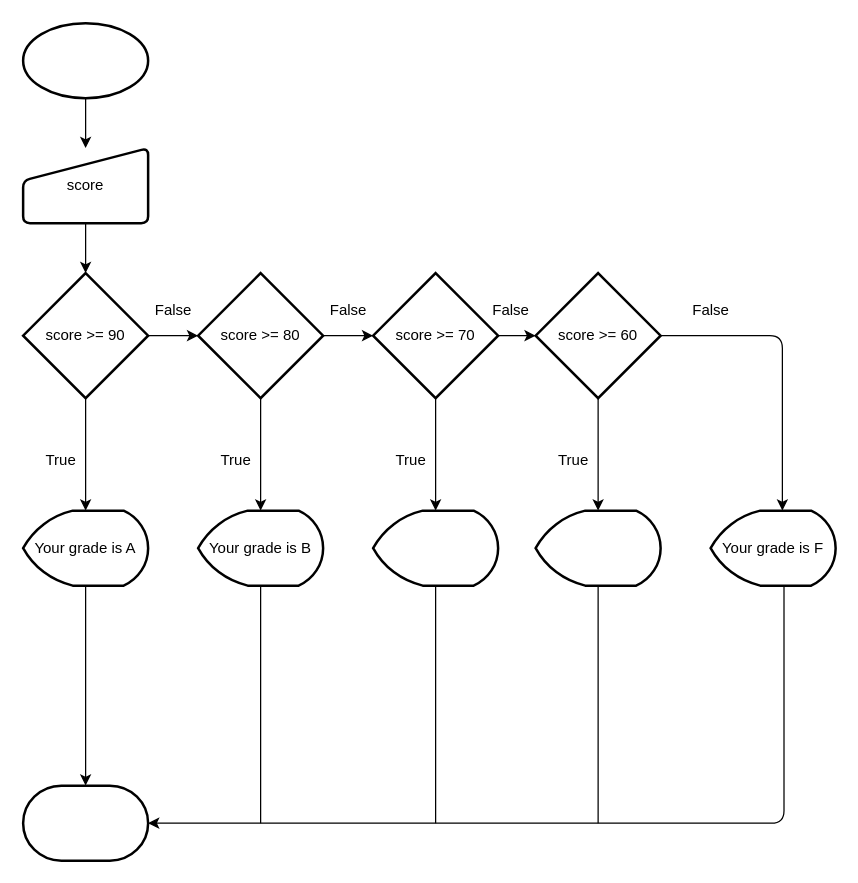
Image size: 858x883. Some labels were removed from this diagram. Each missing label, with the centre of its shape:
end: the point at 85,822
start: the point at 85,60
Your grade is C: the point at 435,547
Your grade is D: the point at 597,547
